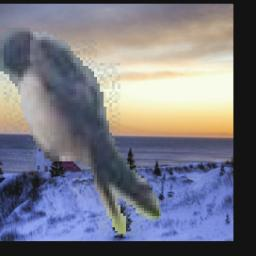Swallow: (1, 28, 162, 236)
